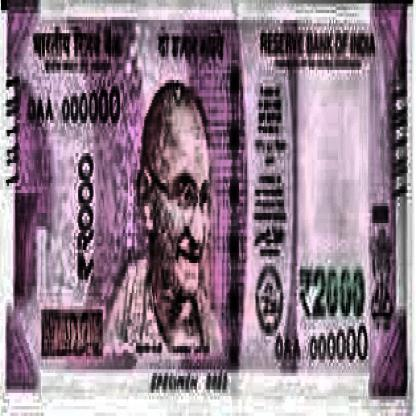Rs2000: (294, 256, 366, 324)
